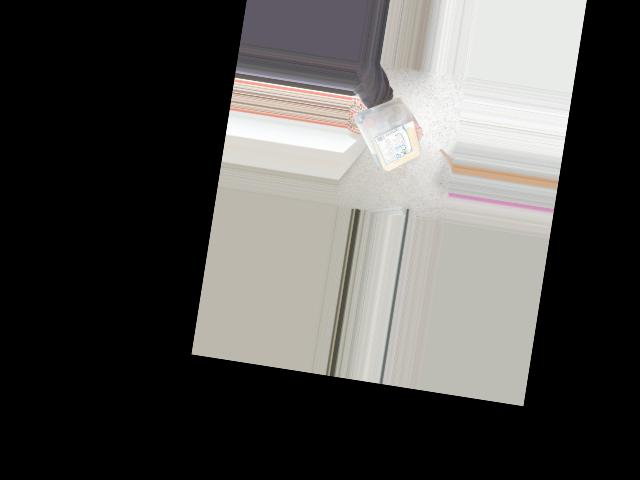cheese: (373, 106, 420, 176)
